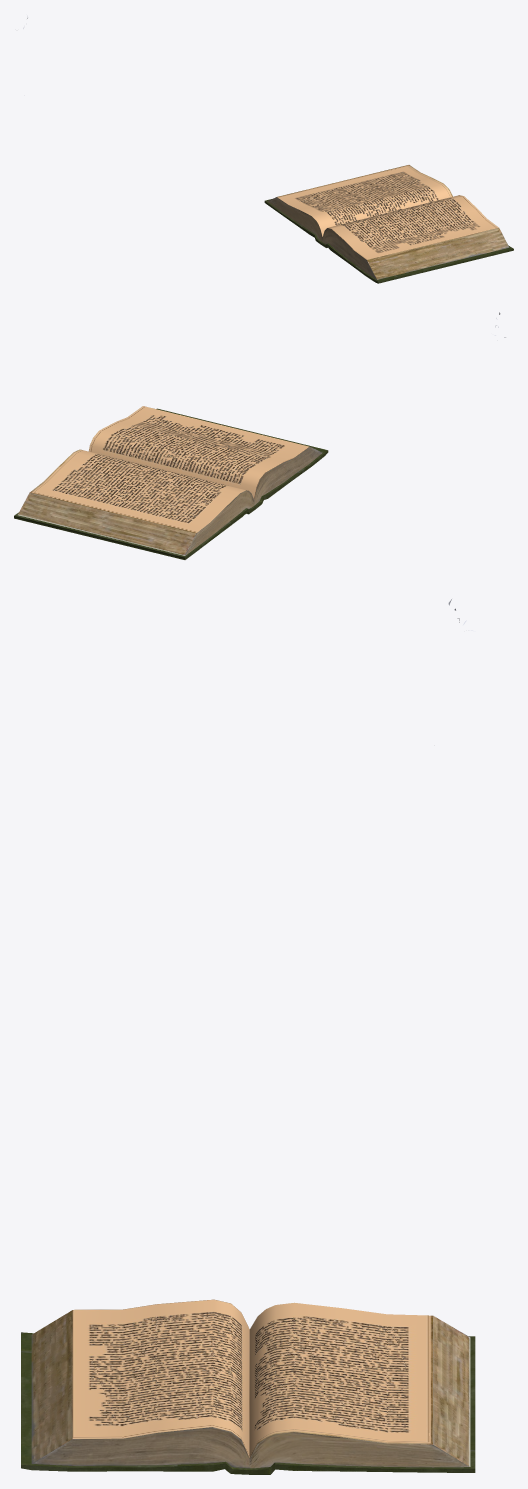
File: diccionario.gltf
3 renders of one model, top to bottom at view 1: azimuth 30°, elevation 25°; view 2: azimuth 150°, elevation 25°; view 3: azimuth 270°, elevation 25°, orthographic. The views are drawn at different scales.
Visible parts, largest first — view 1: BookOpen_LP; view 2: BookOpen_LP; view 3: BookOpen_LP.
Boxes of the visible parts, bbox=[...] form: BookOpen_LP: bbox=[264, 165, 513, 283]; BookOpen_LP: bbox=[14, 406, 328, 559]; BookOpen_LP: bbox=[21, 1299, 475, 1474].
Bounding box in the file's own units: 2.45 × 1.53 × 1.33.
Materials: 3 (1 with a texture image).
